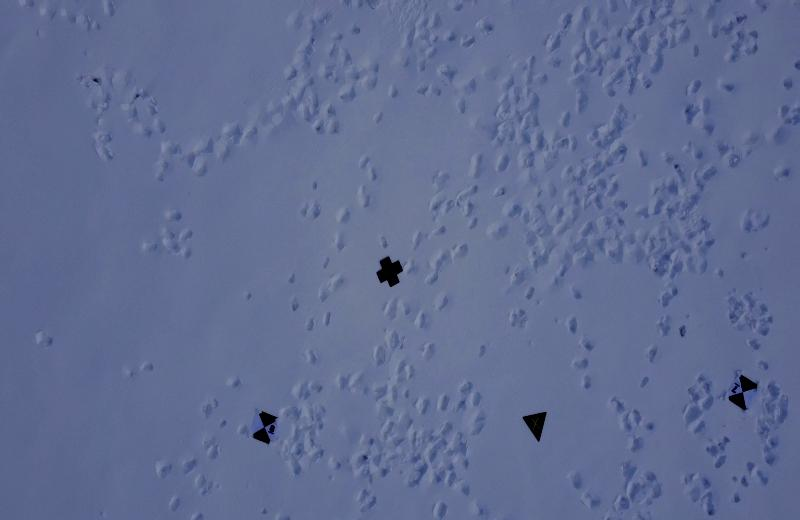Cross: (372, 254, 404, 290)
Triangle: (519, 408, 550, 443)
